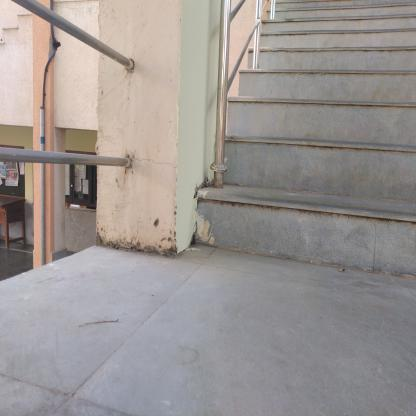stairs: (266, 27, 416, 283)
